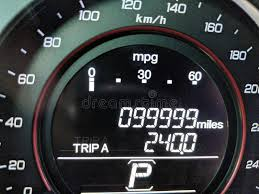Digital_Meter: (57, 102, 231, 158)
